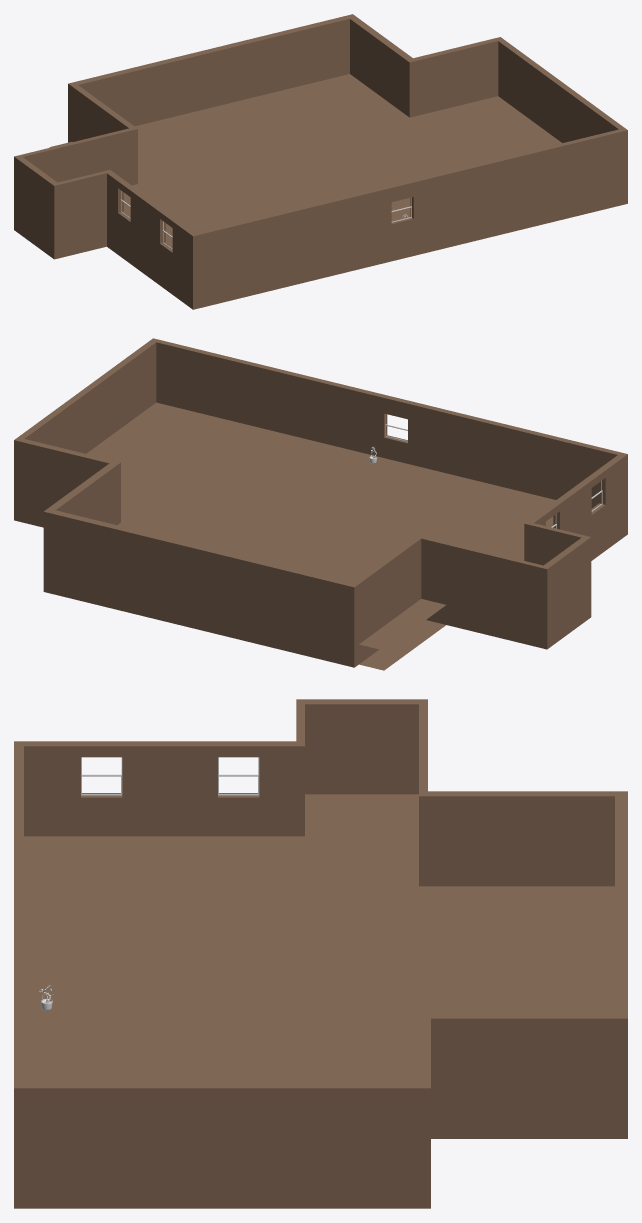
The model's file is Plant_15_60_120_200_Maceta_Ventanas.fbx.
3 views of the same model, one above another, from view 1: azimuth 30°, elevation 25°; view 2: azimuth 150°, elevation 25°; view 3: azimuth 270°, elevation 25° (orthographic). The views are drawn at different scales.
Visible parts, largest first — view 1: Paredes; view 2: Paredes; view 3: Paredes.
Boxes of the visible parts, <box> form: Paredes: <box>14,14,627,309</box>; Paredes: <box>14,338,627,670</box>; Paredes: <box>14,699,627,1208</box>.
Size of the model in its own units: 2766 by 399 by 1846.
